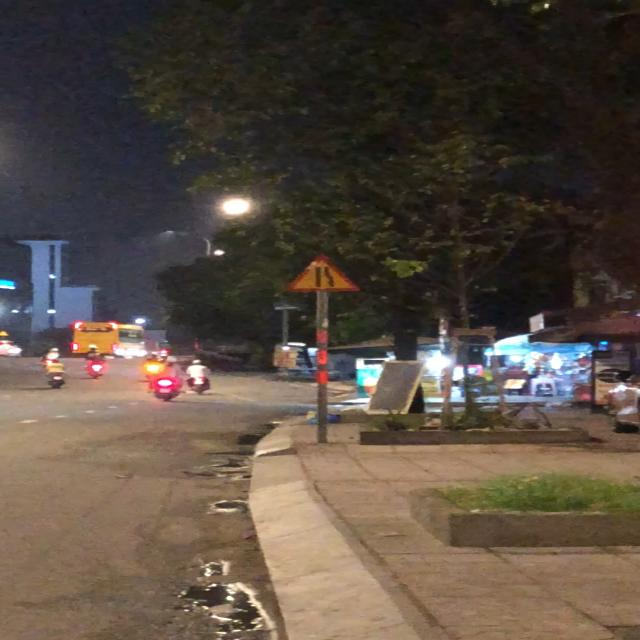Bien bao duong bi thu hep: (266, 250, 366, 296)
